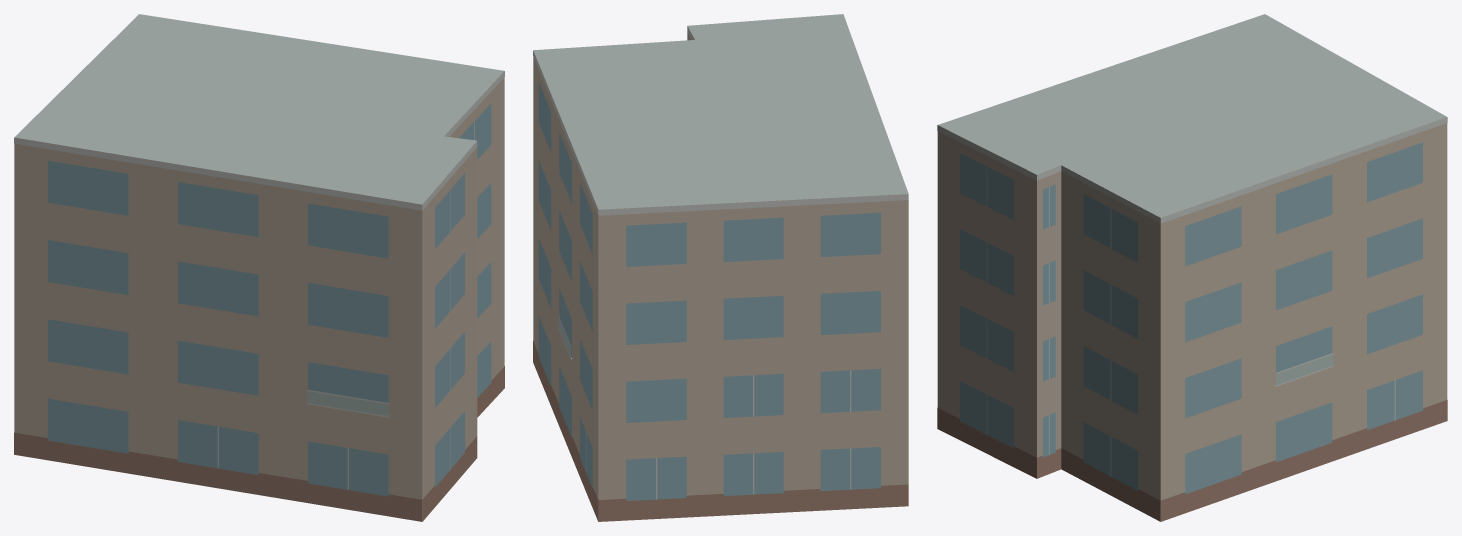
Rendered from survey-upis-32735183.glb.
3 views of the same model, side by side, from view 1: azimuth 30°, elevation 25°; view 2: azimuth 150°, elevation 25°; view 3: azimuth 270°, elevation 25° (orthographic). The views are drawn at different scales.
Parts seen in each view (by area): view 1: survey-upis-32735183.tmp; view 2: survey-upis-32735183.tmp; view 3: survey-upis-32735183.tmp.
Part boxes in pixels (bbox=[...]): survey-upis-32735183.tmp: bbox=[14, 14, 504, 521]; survey-upis-32735183.tmp: bbox=[533, 14, 908, 521]; survey-upis-32735183.tmp: bbox=[937, 14, 1447, 521].
Bounding box in the file's own units: 18.14 × 12.6 × 19.16.
